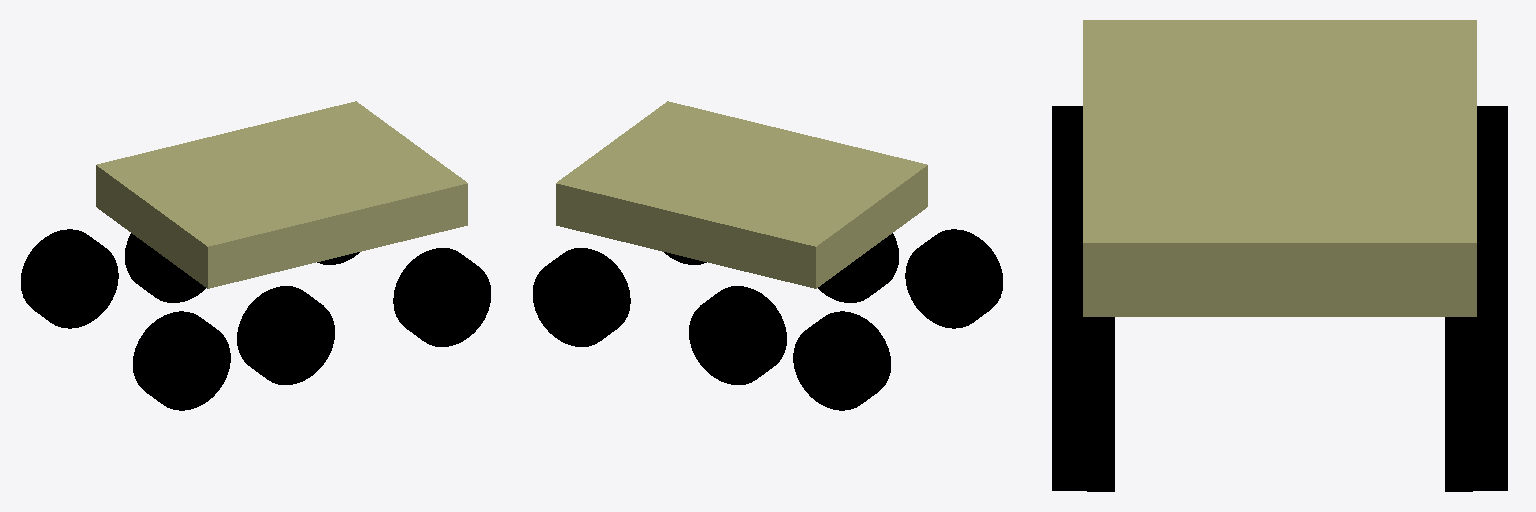
The robot description file, URDF, robot "aar2":
<robot name="aar2">
  <link name="base_link">
    <visual>
      <geometry>
        <box size= "1.1 0.82 0.17"/>
      </geometry>
      <origin xyz="0.11 0 0"/>
      <material name="Yellow">
        <color rgba="0.7 0.7 0.5 0.75"/>
      </material>
    </visual>
  </link>

  <link name="front_rightw">
    <visual>
      <geometry>
        <cylinder length="0.13" radius="0.17"/>
      </geometry>
      <origin xyz="0 0 0"/>
      <material name="Black">
        <color rgba="0 0 0 1.0"/>
      </material>
    </visual>
  </link>

  <link name="front_leftw">
   <visual>
      <geometry>
        <cylinder length="0.13" radius="0.17"/>
      </geometry>
      <origin xyz="0 0 0"/>
      <material name="Black">
        <color rgba="0 0 0 1.0"/>
      </material>
    </visual>
  </link>

  <link name="mid_rightw">
   <visual>
      <geometry>
        <cylinder length="0.13" radius="0.17"/>
      </geometry>
      <origin xyz="0 0 0"/>
      <material name="Black">
        <color rgba="0 0 0 1.0"/>
      </material>
    </visual>
  </link>

  <link name="mid_leftw">
   <visual>
      <geometry>
        <cylinder length="0.13" radius="0.17"/>
      </geometry>
      <origin xyz="0 0 0"/>
      <material name="Black">
        <color rgba="0 0 0 1.0"/>
      </material>
    </visual>
  </link>

  <link name="rear_rightw">
  <visual>
      <geometry>
        <cylinder length="0.13" radius="0.17"/>
      </geometry>
      <origin xyz="0 0 0"/>
      <material name="Black">
        <color rgba="0 0 0 1.0"/>
      </material>
    </visual>
  </link>

  <link name="rear_leftw">
   <visual>
      <geometry>
        <cylinder length="0.13" radius="0.17"/>
      </geometry>
      <origin xyz="0 0 0"/>
      <material name="Black">
        <color rgba="0 0 0 1.0"/>
      </material>
    </visual>
  </link>

  <joint name="base_front_right" type="fixed">
    <parent link="base_link"/>
    <child link="front_rightw"/>
    <origin xyz="0.55 -0.41 -0.35" rpy="1.57 0 0" />
    <!--axis xyz="0 0 -1" /-->
  </joint>

  <joint name="base_front_left" type="fixed">
    <parent link="base_link"/>
    <child link="front_leftw"/>
    <origin xyz="0.55 0.41 -0.35" rpy="-1.57 0 0" />
    <!--axis xyz="0 0 1" /-->
  </joint>

  <joint name="base_mid_right" type="fixed">
    <parent link="base_link"/>
    <child link="mid_rightw"/>
    <origin xyz="-0.11 -0.41 -0.35" rpy="1.57 0 0" />
    <!--axis xyz="0 0 -1" /-->
  </joint>

   <joint name="base_mid_left" type="fixed">
    <parent link="base_link"/>
    <child link="mid_leftw"/>
    <origin xyz="-0.11 0.41 -0.35" rpy="-1.57 0 0" />
    <!--axis xyz="0 0 1" /-->
  </joint>

  <joint name="base_rear_right" type="fixed">
    <parent link="base_link"/>
    <child link="rear_rightw"/>
    <origin xyz="-0.55 -0.41 -0.35" rpy="1.57 0 0" />
    <!--axis xyz="0 0 -1" /-->
  </joint>

  <joint name="base_rear_left" type="fixed">
    <parent link="base_link"/>
    <child link="rear_leftw"/>
    <origin xyz="-0.55 0.41 -0.35" rpy="-1.57 0 0" />
    <!--axis xyz="0 0 1" /-->
  </joint>

</robot>

--- What the picture shows (computed from the rendered views, not written in the file) ---
3 views of the same robot in one strip: view 1: azimuth 30°, elevation 25°; view 2: azimuth 150°, elevation 25°; view 3: azimuth 270°, elevation 25° (orthographic).
Robot: aar2 — 7 links, 6 joints (6 fixed); root link base_link; default pose: all joints at 0.
Links seen in each view (by area): view 1: base_link, mid_rightw, front_rightw, rear_rightw, rear_leftw, mid_leftw; view 2: base_link, mid_leftw, front_leftw, rear_rightw, rear_leftw, mid_rightw; view 3: base_link, front_rightw, front_leftw, mid_rightw, mid_leftw, rear_rightw, rear_leftw.
Link boxes in pixels (x1,y1,x2,y2): base_link: [96, 101, 467, 288]; mid_rightw: [237, 286, 334, 384]; front_rightw: [393, 248, 490, 346]; rear_rightw: [133, 311, 230, 410]; rear_leftw: [21, 229, 118, 328]; mid_leftw: [125, 233, 205, 302]; base_link: [556, 101, 927, 288]; mid_leftw: [689, 286, 786, 384]; front_leftw: [533, 248, 630, 346]; rear_rightw: [905, 229, 1002, 328]; rear_leftw: [793, 311, 890, 410]; mid_rightw: [818, 233, 898, 302]; base_link: [1083, 20, 1476, 316]; front_rightw: [1052, 329, 1114, 491]; front_leftw: [1445, 329, 1507, 491]; mid_rightw: [1052, 195, 1114, 328]; mid_leftw: [1445, 195, 1507, 328]; rear_rightw: [1052, 106, 1082, 194]; rear_leftw: [1477, 106, 1507, 194].
Size in the robot's own frame: 1.44 by 0.9503 by 0.6051 metres.
Geometry: primitives only (box / cylinder / sphere), no mesh files.
